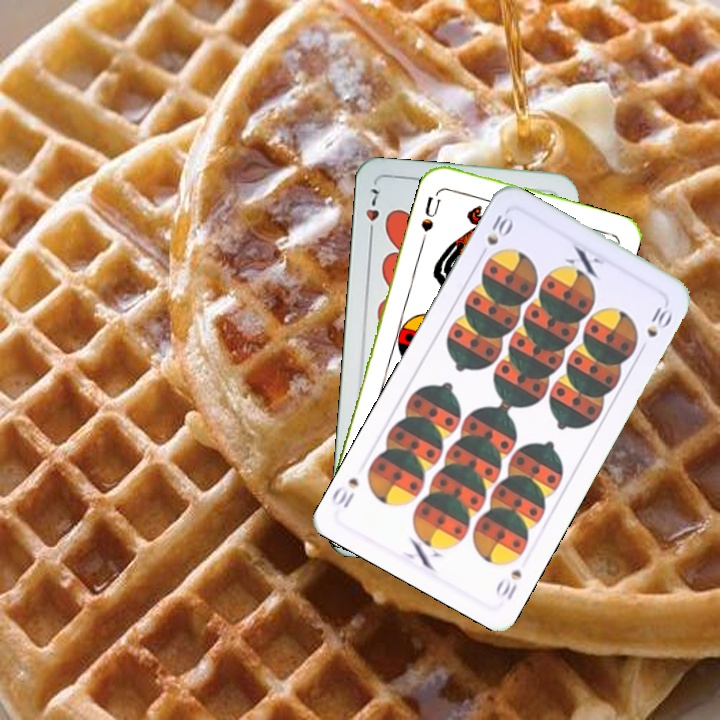H7: (361, 184, 382, 241)
S10: (475, 208, 516, 262), (491, 565, 525, 603)
SU: (417, 186, 444, 235)
